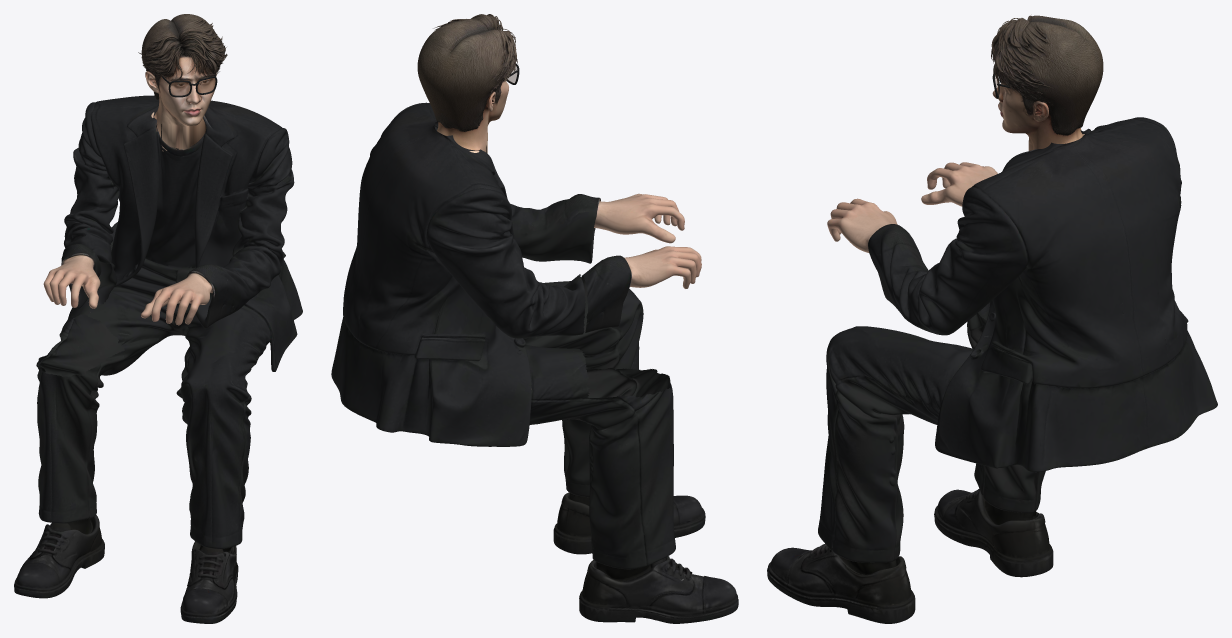
Rendered from avatar-v2-packed.glb.
3 views of the same model, side by side, from view 1: azimuth 30°, elevation 25°; view 2: azimuth 150°, elevation 25°; view 3: azimuth 270°, elevation 25° (orthographic). The views are drawn at different scales.
Visible parts, largest first — view 1: avatar_body, head_surface, avatar_body_matched_hand; view 2: avatar_body, head_surface, avatar_body_matched_hand; view 3: avatar_body, head_surface, avatar_body_matched_hand.
Boxes of the visible parts, x1=… form: avatar_body: x1=14, y1=95, x2=302, y2=623; head_surface: x1=138, y1=14, x2=227, y2=151; avatar_body_matched_hand: x1=43, y1=244, x2=101, y2=308; avatar_body: x1=331, y1=102, x2=738, y2=623; head_surface: x1=417, y1=14, x2=517, y2=153; avatar_body_matched_hand: x1=581, y1=246, x2=701, y2=332; avatar_body: x1=767, y1=117, x2=1217, y2=623; head_surface: x1=991, y1=15, x2=1103, y2=150; avatar_body_matched_hand: x1=921, y1=162, x2=997, y2=206.
Bounding box in the file's own units: 1 × 1.53 × 1.02.
Materials: 4 (2 with a texture image).
